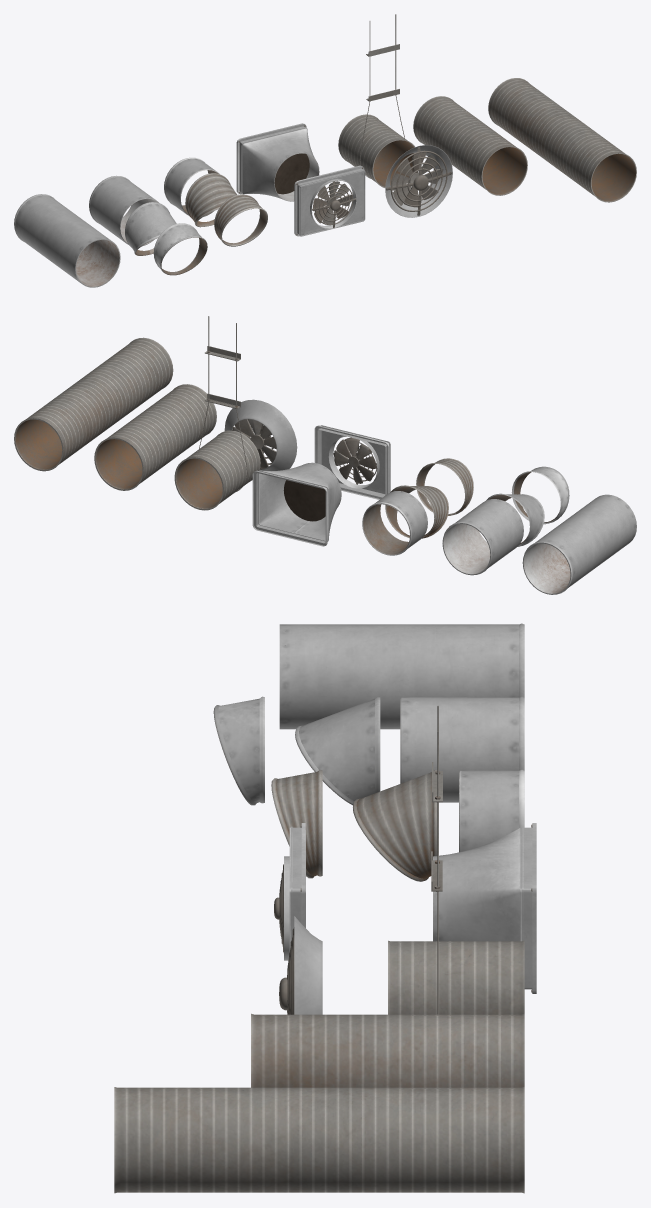
The model's file is modular_airduct_circular_01_2k.fbx.
The picture shows the model from 3 angles, top to bottom: view 1: azimuth 30°, elevation 25°; view 2: azimuth 150°, elevation 25°; view 3: azimuth 270°, elevation 25°; orthographic projection. The views are drawn at different scales.
Visible parts, largest first — view 1: modular_airduct_circular_triple, modular_airduct_circular_double, modular_airduct_circular_smooth_triple, modular_airduct_rectangular_converter, modular_airduct_rectangular_vent_fan, modular_airduct_circular_fan, modular_airduct_circular_single, modular_airduct_circular_smooth_double, modular_airduct_circular_bend_half, modular_airduct_circular_smooth_bend_half, modular_airduct_circular_bend_quater, modular_airduct_circular_smooth_bend_quater (+1 smaller); view 2: modular_airduct_circular_triple, modular_airduct_circular_double, modular_airduct_circular_smooth_triple, modular_airduct_rectangular_converter, modular_airduct_circular_single, modular_airduct_circular_smooth_double, modular_airduct_rectangular_vent_fan, modular_airduct_circular_fan, modular_airduct_circular_smooth_single, modular_airduct_circular_bend_half, modular_airduct_circular_bend_quater, modular_airduct_circular_smooth_bend_quater (+2 smaller); view 3: modular_airduct_circular_triple, modular_airduct_circular_smooth_triple, modular_airduct_circular_double, modular_airduct_rectangular_converter, modular_airduct_circular_single, modular_airduct_circular_smooth_double, modular_airduct_circular_smooth_bend_half, modular_airduct_circular_bend_half, modular_airduct_circular_smooth_single, modular_airduct_circular_smooth_bend_quater, modular_airduct_circular_bend_quater, modular_airduct_circular_fan (+1 smaller).
Part boxes in pixels (x1,y1,x2,y2): modular_airduct_circular_triple: (488,78,636,202); modular_airduct_circular_double: (413,96,527,195); modular_airduct_circular_smooth_triple: (14,194,120,287); modular_airduct_rectangular_converter: (236,123,319,201); modular_airduct_rectangular_vent_fan: (294,165,365,236); modular_airduct_circular_fan: (385,145,452,217); modular_airduct_circular_single: (338,114,414,187); modular_airduct_circular_smooth_double: (89,175,158,246); modular_airduct_circular_bend_half: (185,173,236,227); modular_airduct_circular_smooth_bend_half: (125,202,176,255); modular_airduct_circular_bend_quater: (214,194,267,246); modular_airduct_circular_smooth_bend_quater: (153,223,207,275); modular_airduct_circular_triple: (14,337,173,471); modular_airduct_circular_double: (94,384,216,490); modular_airduct_circular_smooth_triple: (522,494,636,594); modular_airduct_rectangular_converter: (252,462,341,546); modular_airduct_circular_single: (174,430,260,510); modular_airduct_circular_smooth_double: (442,499,523,575); modular_airduct_rectangular_vent_fan: (314,425,390,499); modular_airduct_circular_fan: (224,399,297,470); modular_airduct_circular_smooth_single: (362,491,427,555); modular_airduct_circular_bend_half: (385,485,448,538); modular_airduct_circular_bend_quater: (416,458,473,515); modular_airduct_circular_smooth_bend_quater: (511,466,569,524); modular_airduct_circular_triple: (114,1087,524,1193); modular_airduct_circular_smooth_triple: (279,623,524,729); modular_airduct_circular_double: (251,1013,524,1087); modular_airduct_rectangular_converter: (433,823,536,993); modular_airduct_circular_single: (388,940,524,1014); modular_airduct_circular_smooth_double: (400,696,524,802); modular_airduct_circular_smooth_bend_half: (295,696,380,805); modular_airduct_circular_bend_half: (353,769,437,881); modular_airduct_circular_smooth_single: (459,770,524,852); modular_airduct_circular_smooth_bend_quater: (213,696,264,805); modular_airduct_circular_bend_quater: (271,770,322,878); modular_airduct_circular_fan: (279,916,322,1014).
Bounding box in the file's own units: 417 × 132 × 146.
1 material, 1 textured.
